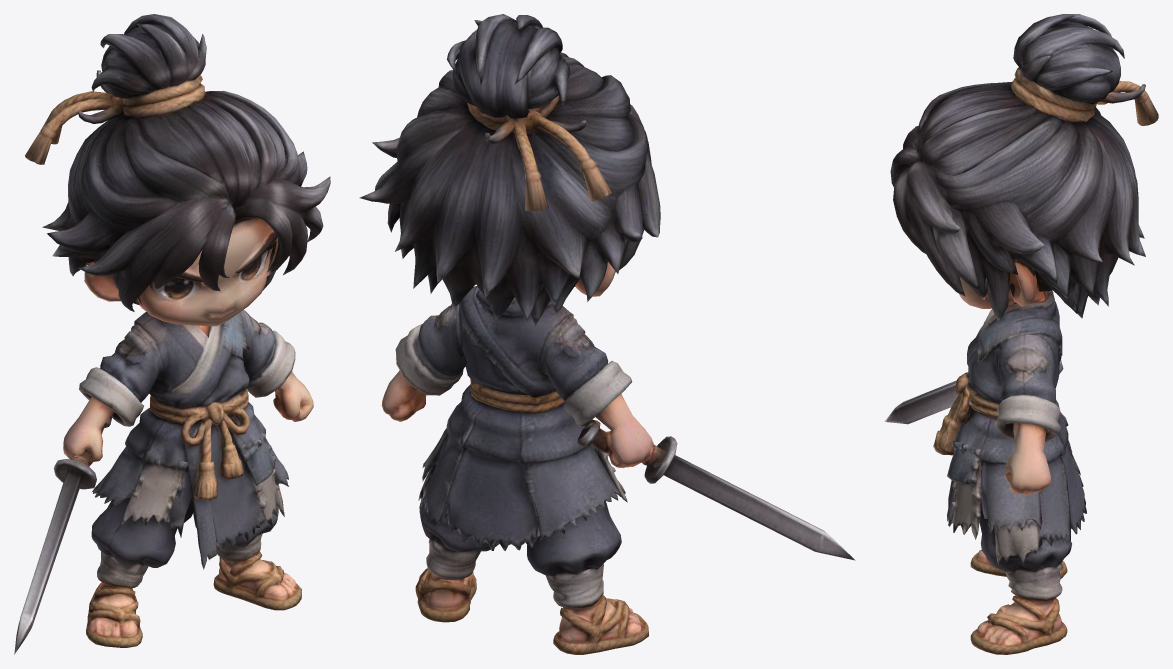
File: pp_sword1.glb
3 renders of one model, left to right at view 1: azimuth 30°, elevation 25°; view 2: azimuth 150°, elevation 25°; view 3: azimuth 270°, elevation 25°, orthographic. The views are drawn at different scales.
Visible parts, largest first — view 1: tripo_node_3034c87e-c363-4936-8801-5a43d002768e; view 2: tripo_node_3034c87e-c363-4936-8801-5a43d002768e; view 3: tripo_node_3034c87e-c363-4936-8801-5a43d002768e.
Boxes of the visible parts, x1,y1,x2,y2 form: tripo_node_3034c87e-c363-4936-8801-5a43d002768e: (14,14,330,654); tripo_node_3034c87e-c363-4936-8801-5a43d002768e: (359,14,855,654); tripo_node_3034c87e-c363-4936-8801-5a43d002768e: (884,14,1158,654).
Size of the model in its own units: 0.6566 by 0.9783 by 0.4193.
1 material, 1 textured.
